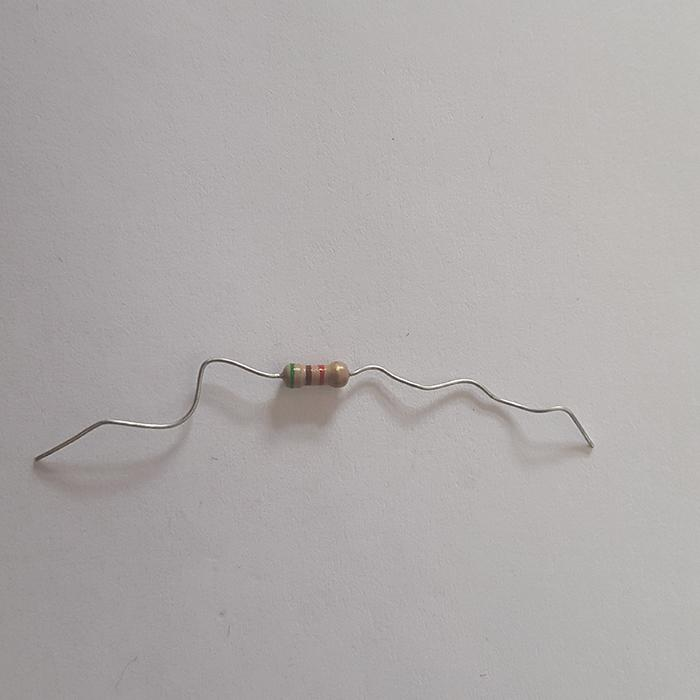resistor: (281, 360, 348, 389)
